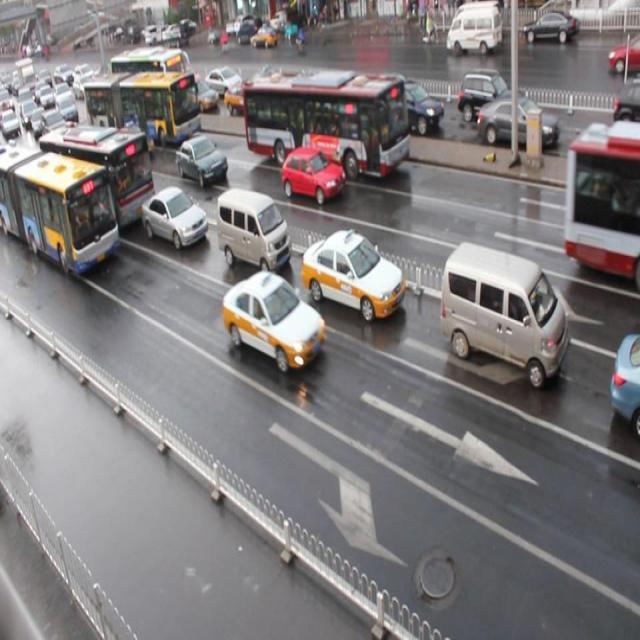BigCar: (241, 60, 411, 174), (2, 136, 115, 276), (40, 123, 152, 234), (78, 72, 212, 146)
car: (440, 225, 559, 396), (217, 270, 324, 385), (298, 232, 405, 326), (215, 194, 290, 274), (479, 89, 555, 159), (271, 141, 345, 210), (141, 192, 205, 256), (173, 136, 230, 190), (457, 65, 514, 116), (448, 6, 503, 58), (524, 4, 582, 49), (252, 24, 278, 48), (55, 95, 78, 121), (239, 19, 261, 43), (19, 103, 40, 123), (39, 89, 55, 108)
